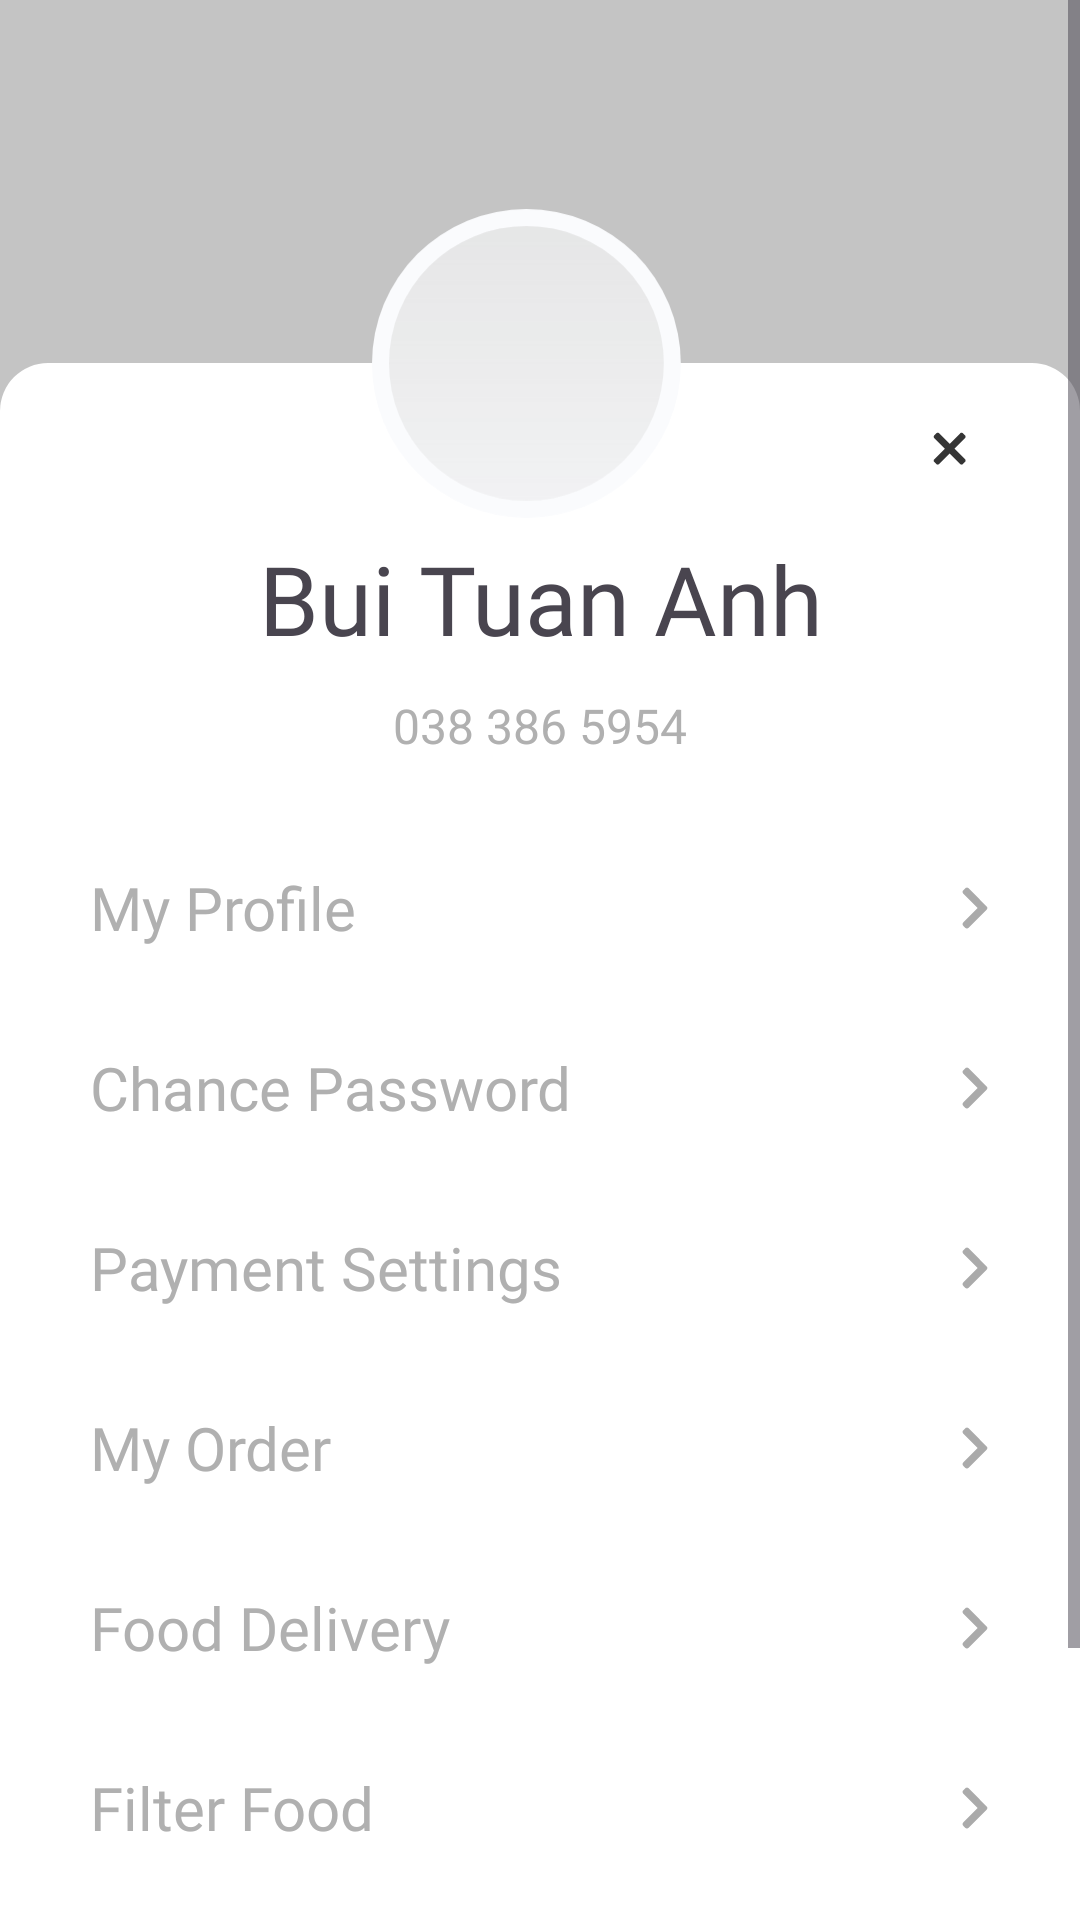

Where icons sit on this 1080×1920 app screen, as (x1, y1, x2, y2):
exit: (933, 432, 966, 465)
